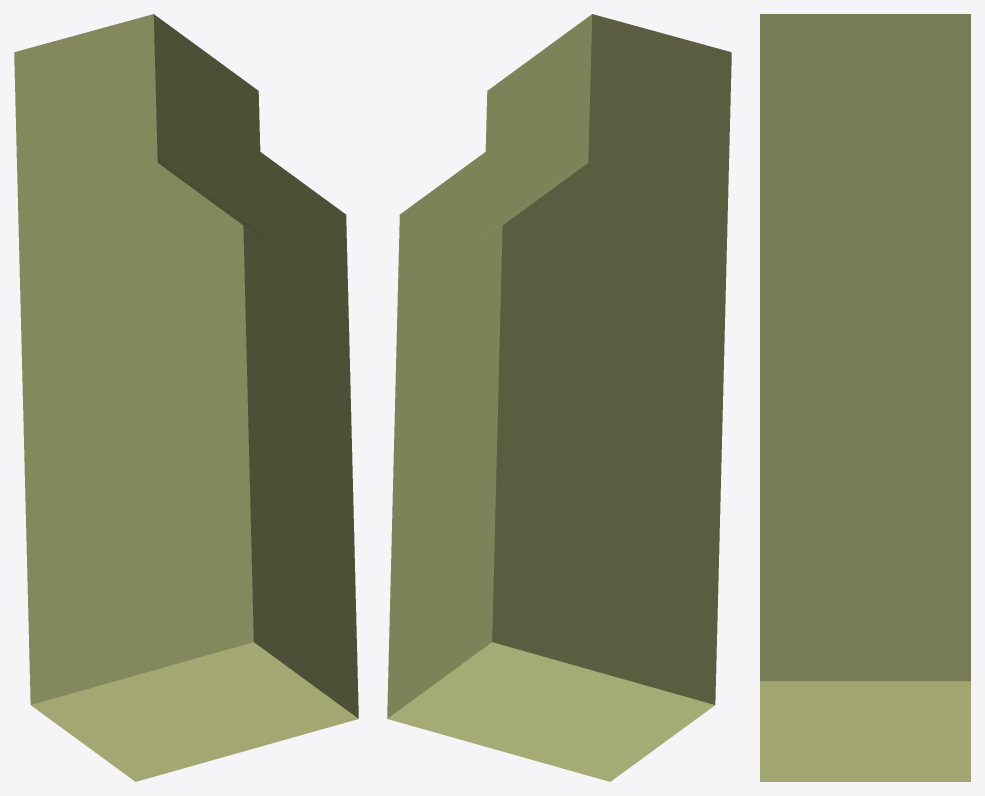
3 renders of one model, left to right at view 1: azimuth 30°, elevation 25°; view 2: azimuth 150°, elevation 25°; view 3: azimuth 270°, elevation 25°, orthographic.
Visible parts, largest first — view 1: 0_3_0_1_2_2_2_2_0_0; view 2: 0_3_0_1_2_2_2_2_0_0; view 3: 0_3_0_1_2_2_2_2_0_0.
Part boxes in pixels (box(x1,y1,x2,y2)): 0_3_0_1_2_2_2_2_0_0: box(14, 14, 358, 781); 0_3_0_1_2_2_2_2_0_0: box(387, 14, 731, 781); 0_3_0_1_2_2_2_2_0_0: box(760, 14, 970, 781).
Bounding box in the file's own units: 7.91 × 20.84 × 6.
